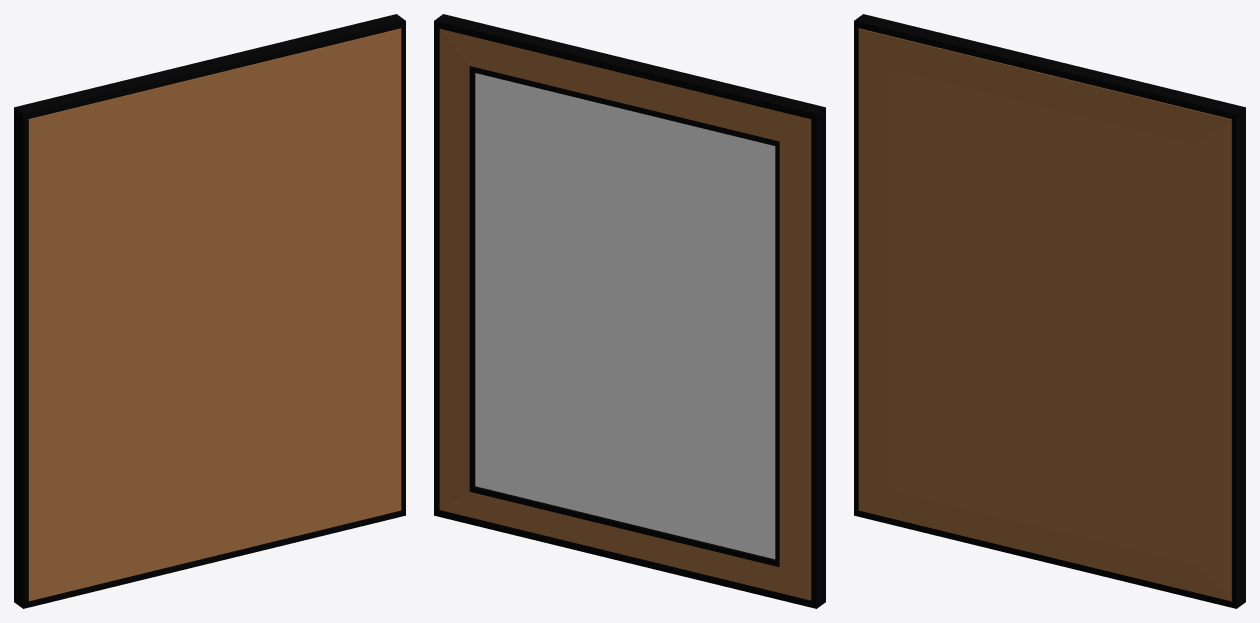
File: tableau-portrait-moyen.glb
The picture shows the model from 3 angles, left to right: view 1: azimuth 30°, elevation 25°; view 2: azimuth 150°, elevation 25°; view 3: azimuth 330°, elevation 25°; orthographic projection.
Visible parts, largest first — view 1: Cube.003; view 2: Cube.003; view 3: Cube.003.
Boxes of the visible parts, bbox=[...] form: Cube.003: bbox=[14, 14, 405, 608]; Cube.003: bbox=[434, 14, 825, 608]; Cube.003: bbox=[854, 14, 1245, 608].
Size of the model in its own units: 1.95 by 2.41 by 0.0984.
